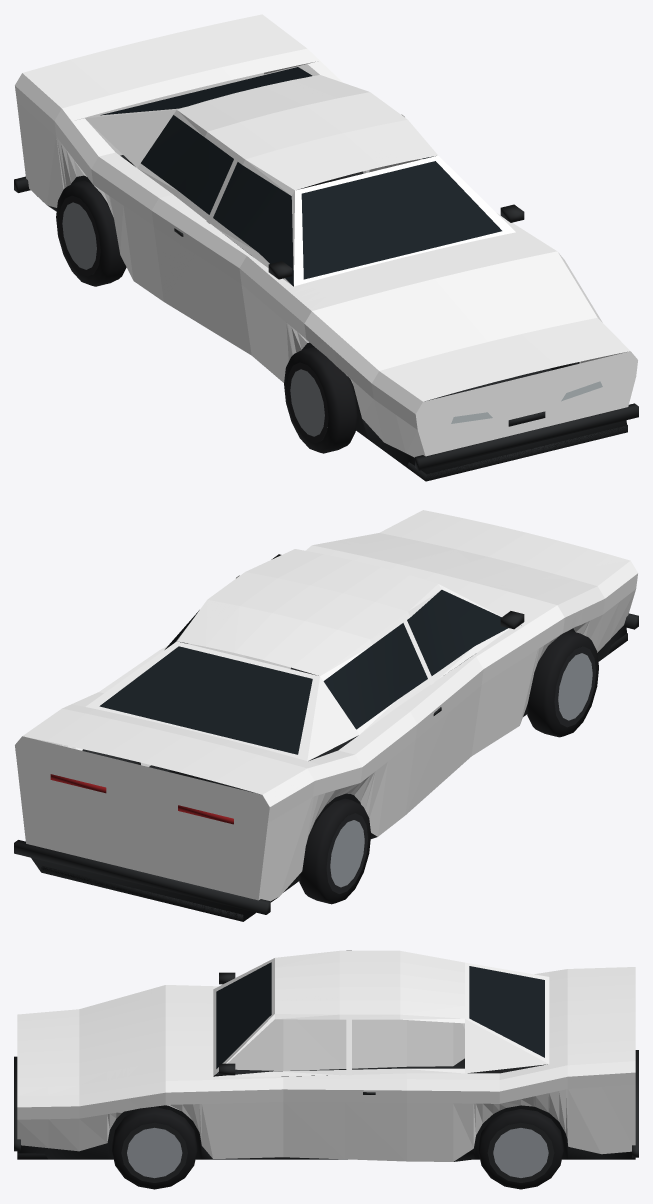
File: bancroft_astrolabio.glb
3 views of the same model, one above another, from view 1: azimuth 30°, elevation 25°; view 2: azimuth 150°, elevation 25°; view 3: azimuth 270°, elevation 25° (orthographic). The views are drawn at different scales.
Parts seen in each view (by area): view 1: Body_Paint, Body_Details, Mount_FrontLeft_Wheel_Details, Mount_RearLeft_Wheel_Details; view 2: Body_Paint, Body_Details, Mount_FrontLeft_Wheel_Details, Mount_RearLeft_Wheel_Details; view 3: Body_Paint, Body_Details, Mount_FrontRight_Wheel_Details, Mount_RearRight_Wheel_Details.
Boxes of the visible parts, <box> form: Body_Paint: <box>15,14,637,457</box>; Body_Details: <box>14,67,638,481</box>; Mount_FrontLeft_Wheel_Details: <box>284,347,357,453</box>; Mount_RearLeft_Wheel_Details: <box>56,180,126,286</box>; Body_Paint: <box>15,510,637,901</box>; Body_Details: <box>14,554,638,921</box>; Mount_FrontLeft_Wheel_Details: <box>526,630,598,737</box>; Mount_RearLeft_Wheel_Details: <box>298,798,370,904</box>; Body_Paint: <box>17,950,635,1161</box>; Body_Details: <box>14,962,638,1161</box>; Mount_FrontRight_Wheel_Details: <box>112,1107,197,1189</box>; Mount_RearRight_Wheel_Details: <box>478,1109,563,1189</box>.
Bounding box in the file's own units: 2 × 1.39 × 4.97.
Materials: 2 (1 with a texture image).
